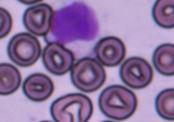L: (47, 0, 103, 46)
